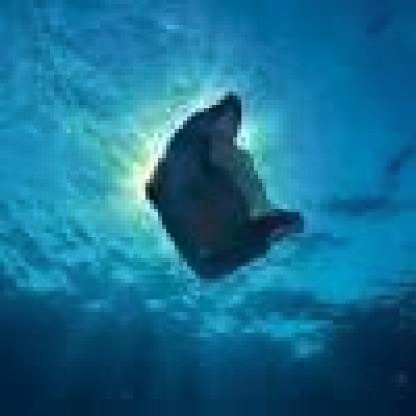pbag: (146, 91, 308, 283)
